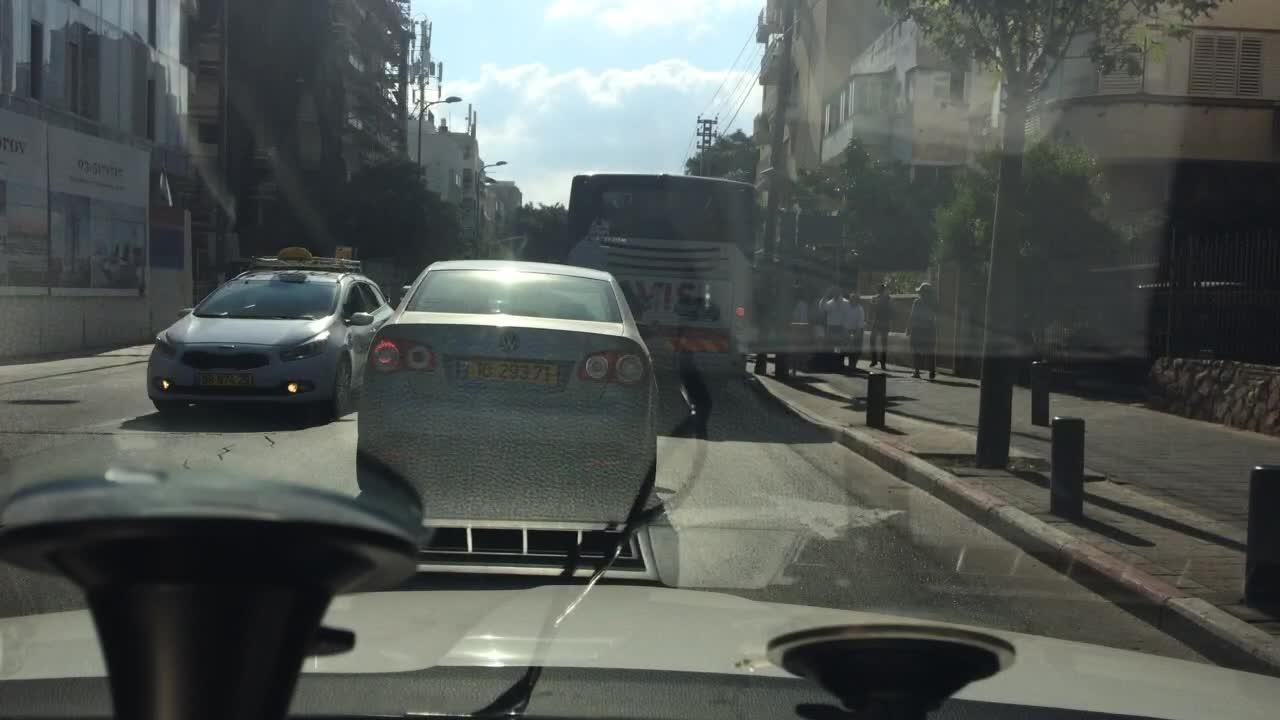Volkswagen: (495, 330, 527, 361)
